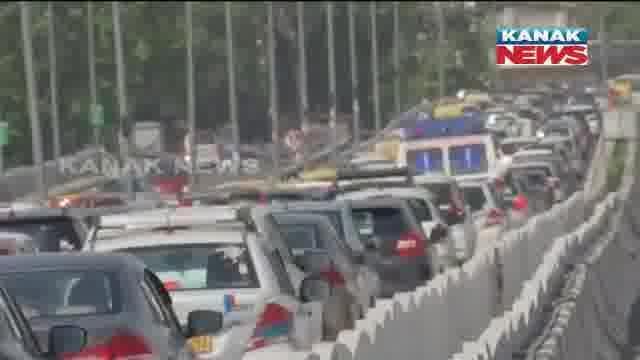AMBULANCE: (393, 114, 504, 176)
